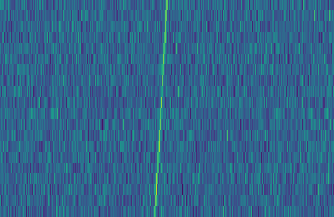signal: (149, 0, 170, 217)
